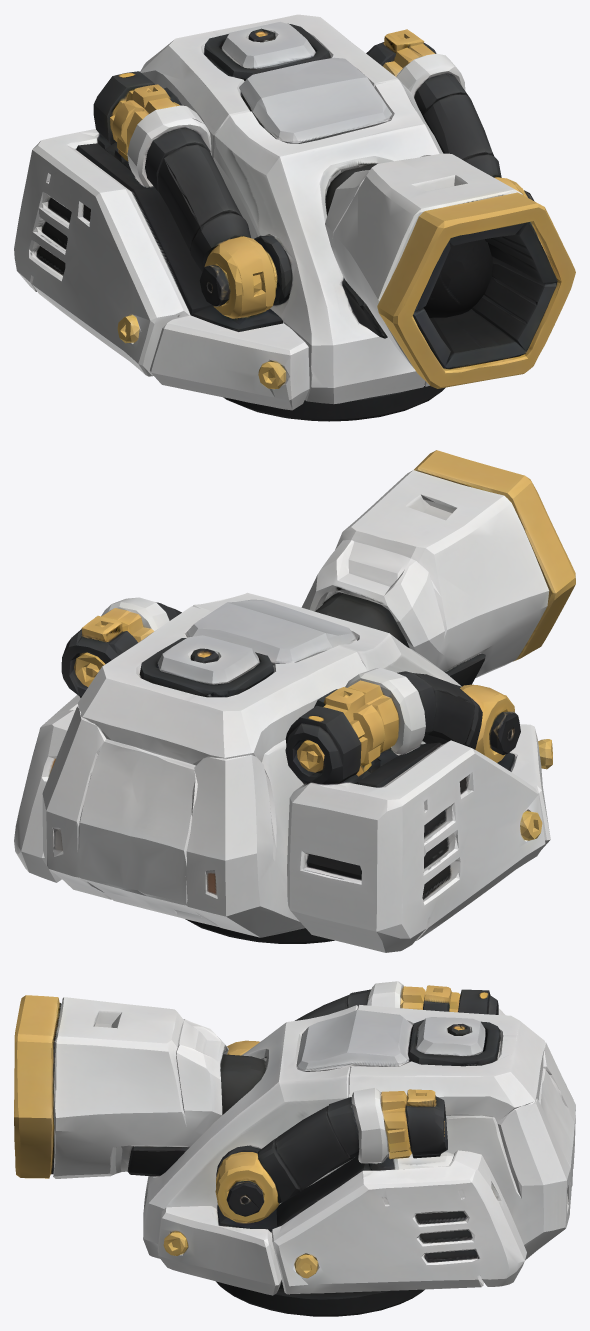
Rendered from scatter.glb.
3 views of the same model, one above another, from view 1: azimuth 30°, elevation 25°; view 2: azimuth 150°, elevation 25°; view 3: azimuth 270°, elevation 25° (orthographic). The views are drawn at different scales.
Visible parts, largest first — view 1: model; view 2: model; view 3: model.
Part boxes in pixels (bbox=[...]): model: bbox=[14, 14, 575, 421]; model: bbox=[14, 450, 575, 952]; model: bbox=[14, 981, 575, 1316].
Size of the model in its own units: 1.4 by 0.9521 by 1.9.
1 material, 1 textured.
